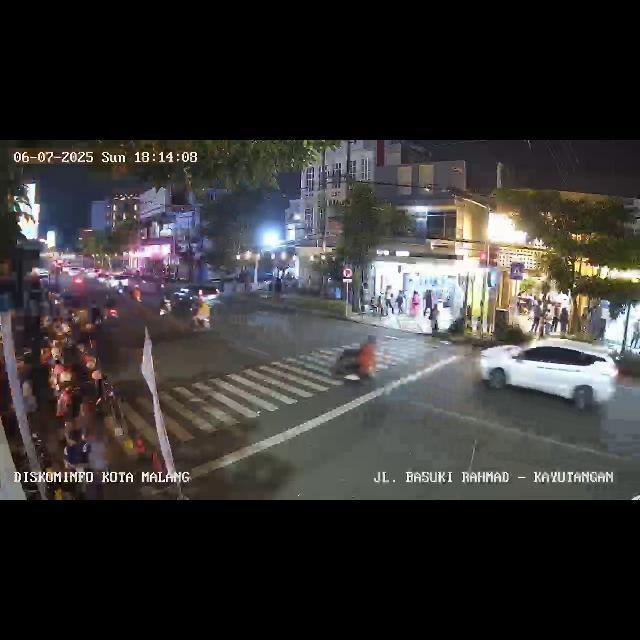car: (475, 340, 617, 412), (171, 284, 223, 316), (98, 272, 128, 292)
motorcycle: (328, 336, 382, 392), (191, 296, 213, 336), (156, 294, 172, 320), (130, 281, 144, 305)
person: (542, 309, 554, 337), (410, 289, 420, 319), (429, 304, 438, 334), (550, 306, 560, 332), (532, 304, 540, 336), (560, 305, 568, 335), (386, 285, 394, 315), (423, 290, 432, 316), (397, 288, 405, 314), (632, 326, 640, 350)
